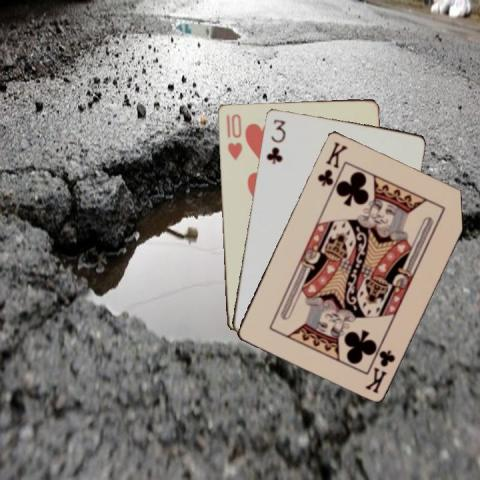10h: (223, 111, 243, 161)
3c: (262, 116, 286, 166)
Kc: (314, 139, 349, 188), (362, 346, 397, 394)
